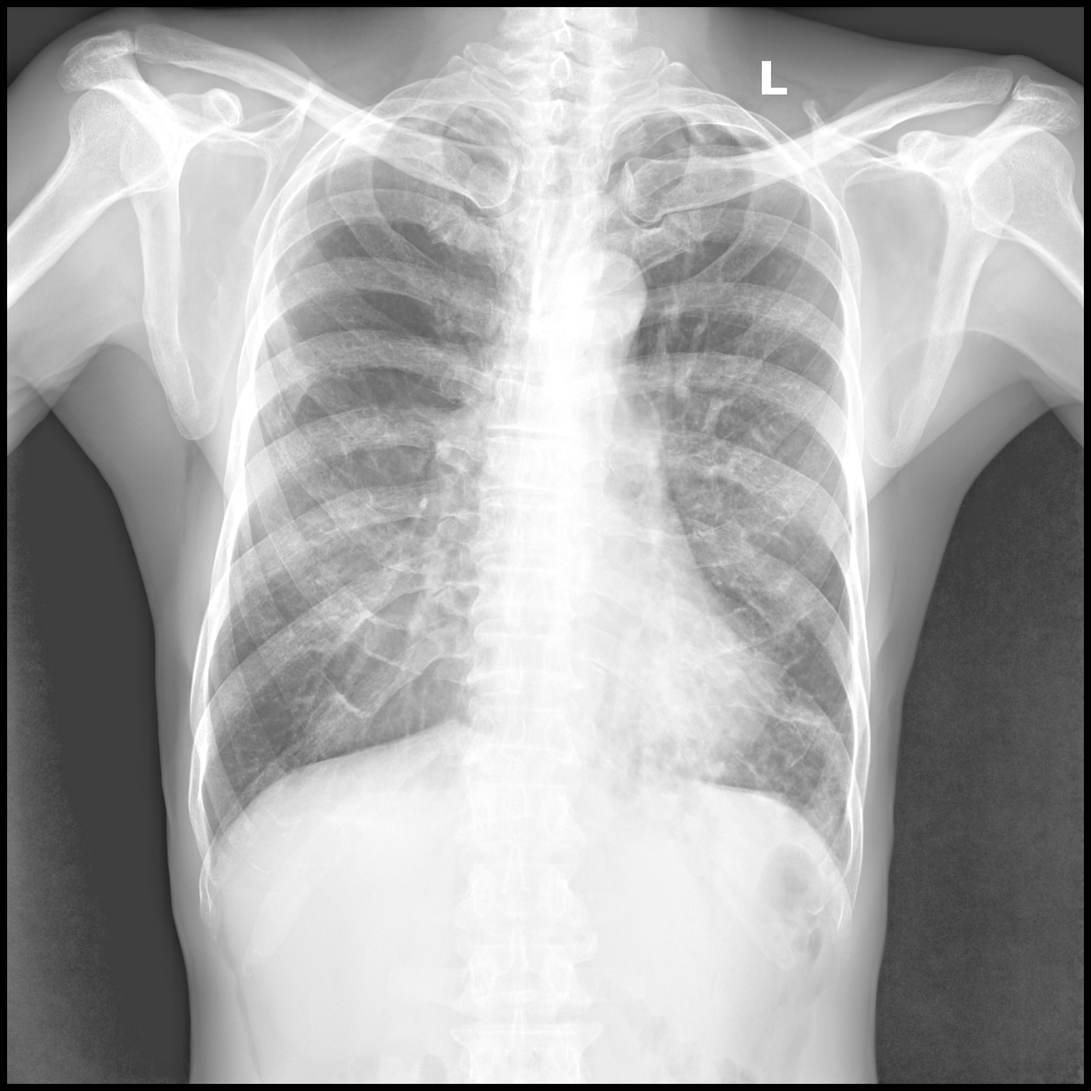Pleural thickening: (262, 220, 335, 453)
Pulmonary fibrosis: (742, 647, 847, 831)
